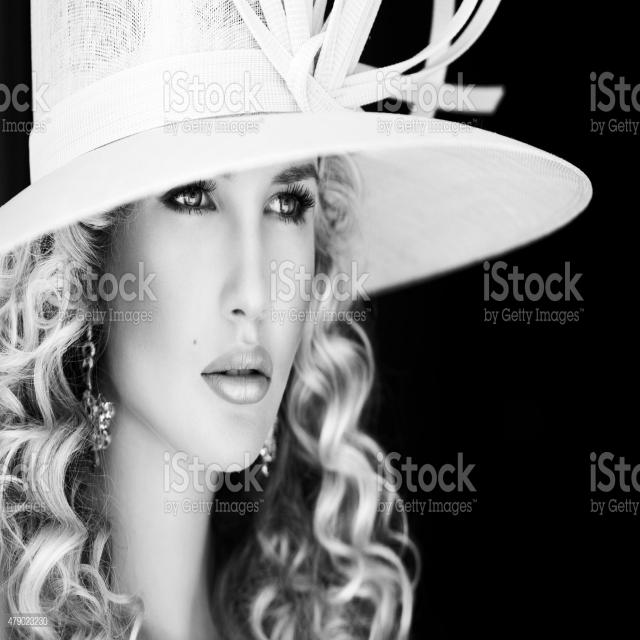hat: (0, 0, 595, 473)
